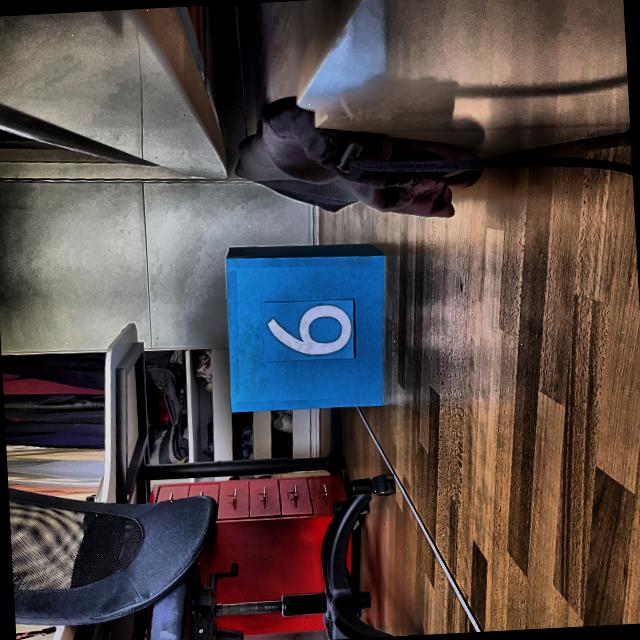blue box: (218, 233, 389, 419)
six: (265, 300, 356, 360)
